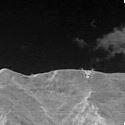Target: (81, 67, 94, 78)
